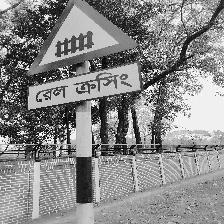Rail-crossing: (25, 0, 143, 112)
